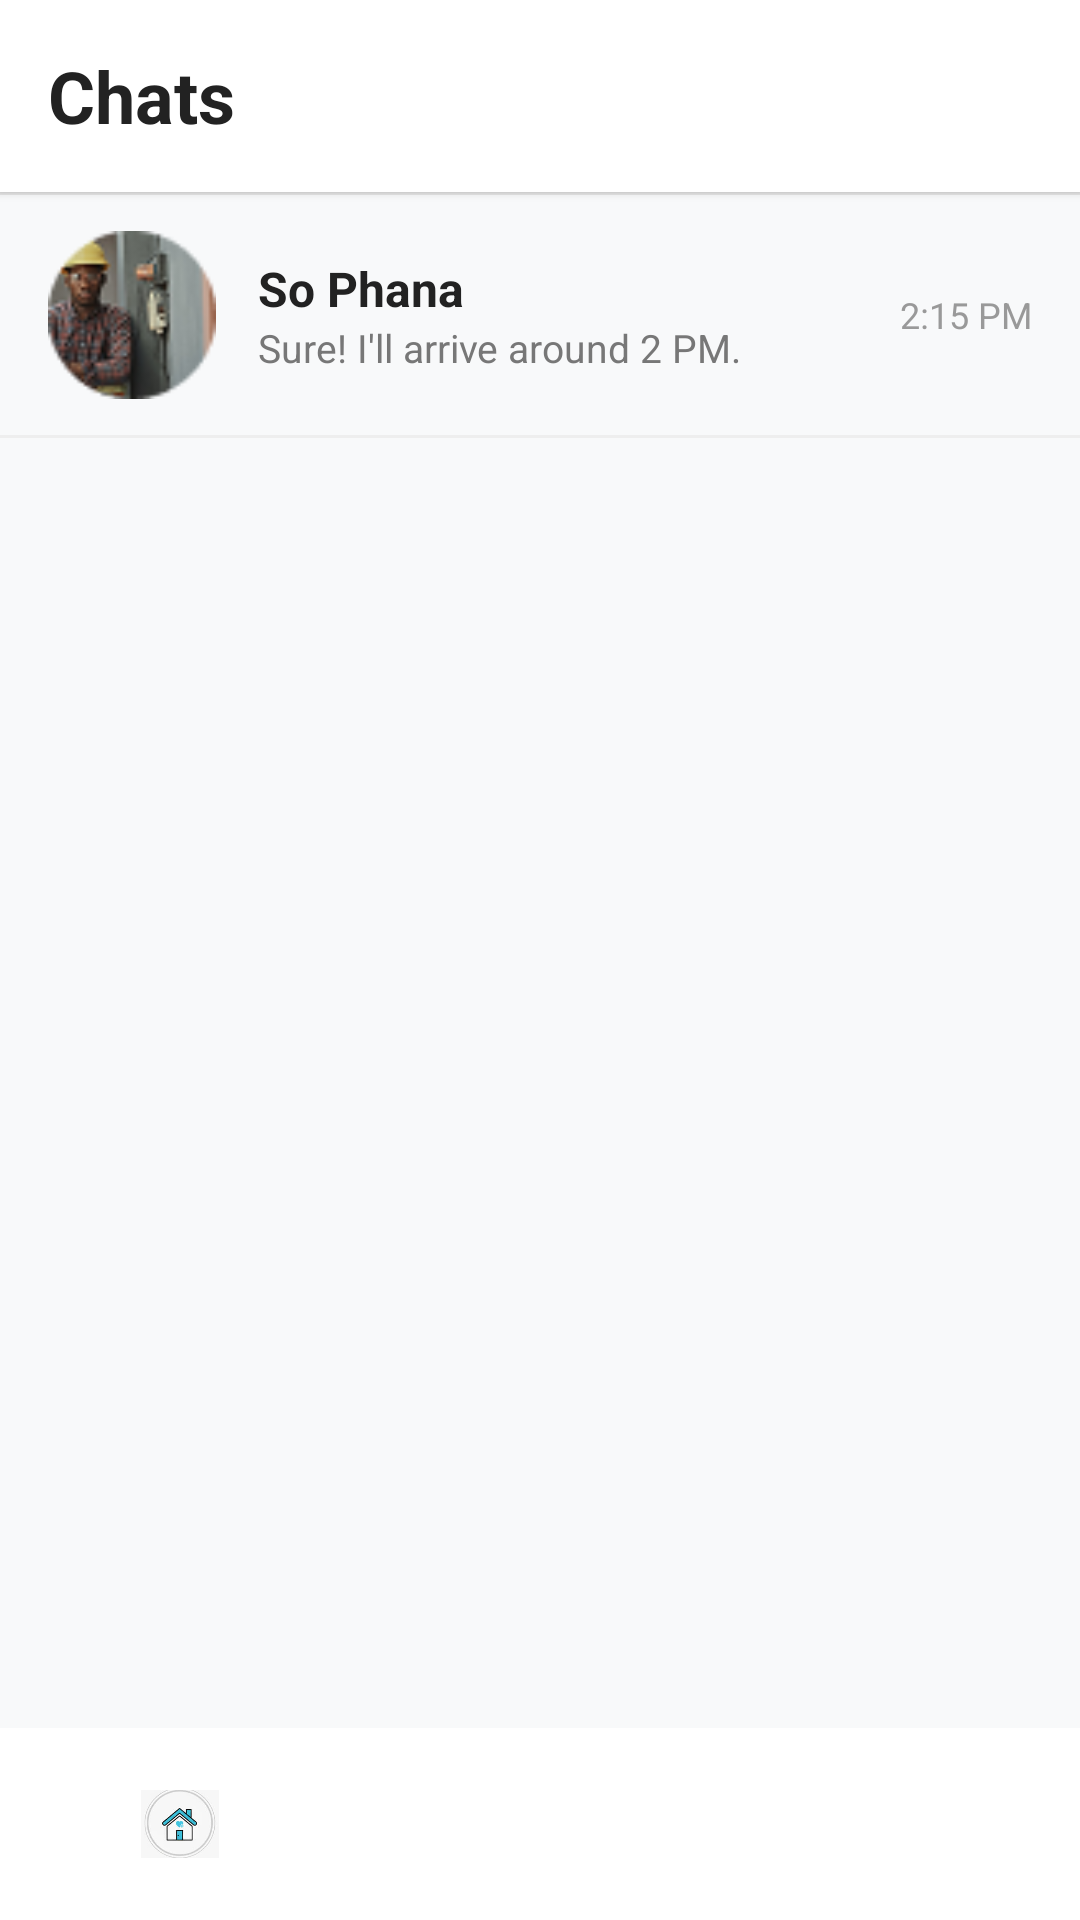

Icons on this 1080px x 1920px Android screen, each with the point to tap as (x=x, y=y):
electrician: (x=132, y=315)
home: (x=180, y=1824)
